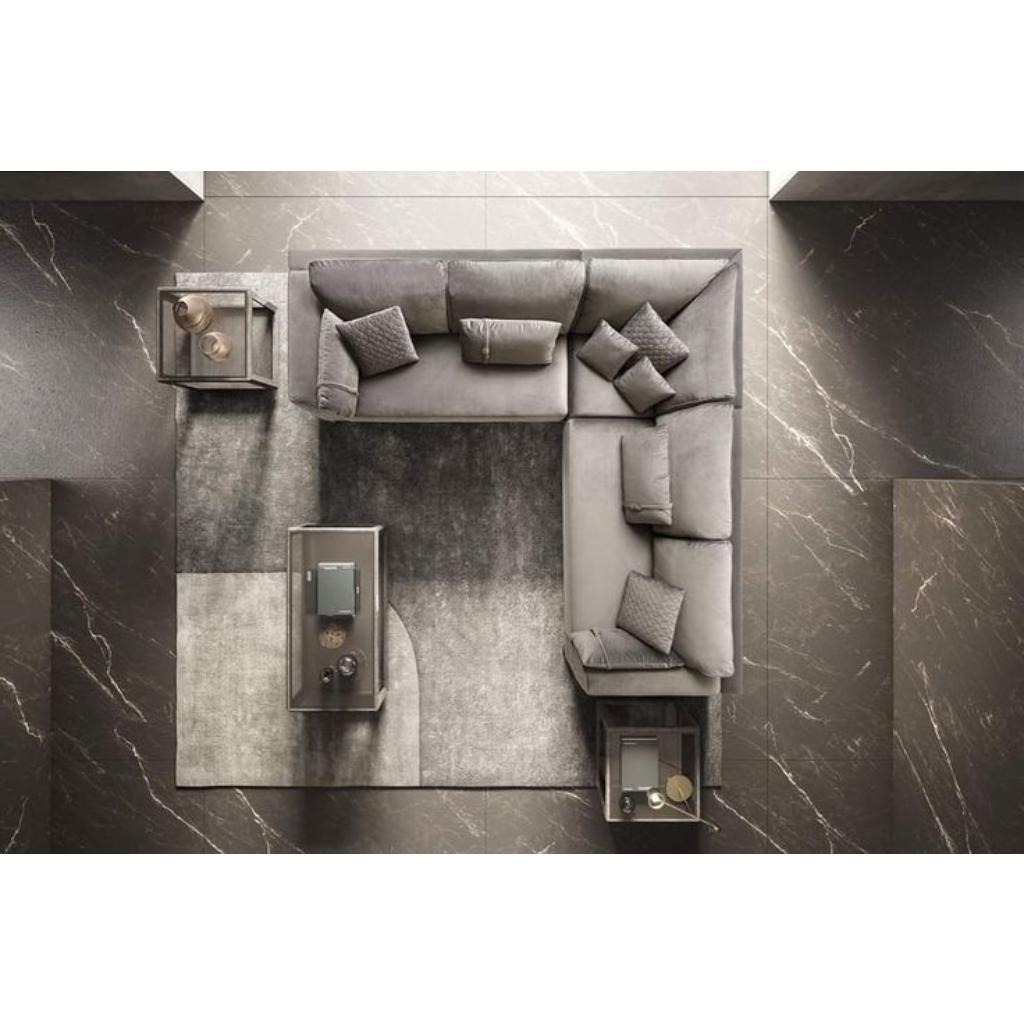coffee table: (286, 526, 386, 710)
rug: (176, 271, 722, 785)
side table: (604, 723, 700, 821), (160, 287, 248, 377)
sofa: (289, 249, 741, 411), (564, 416, 742, 696)
window: (176, 170, 794, 188)
